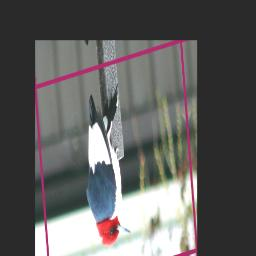Woodpecker: (78, 80, 132, 256)
